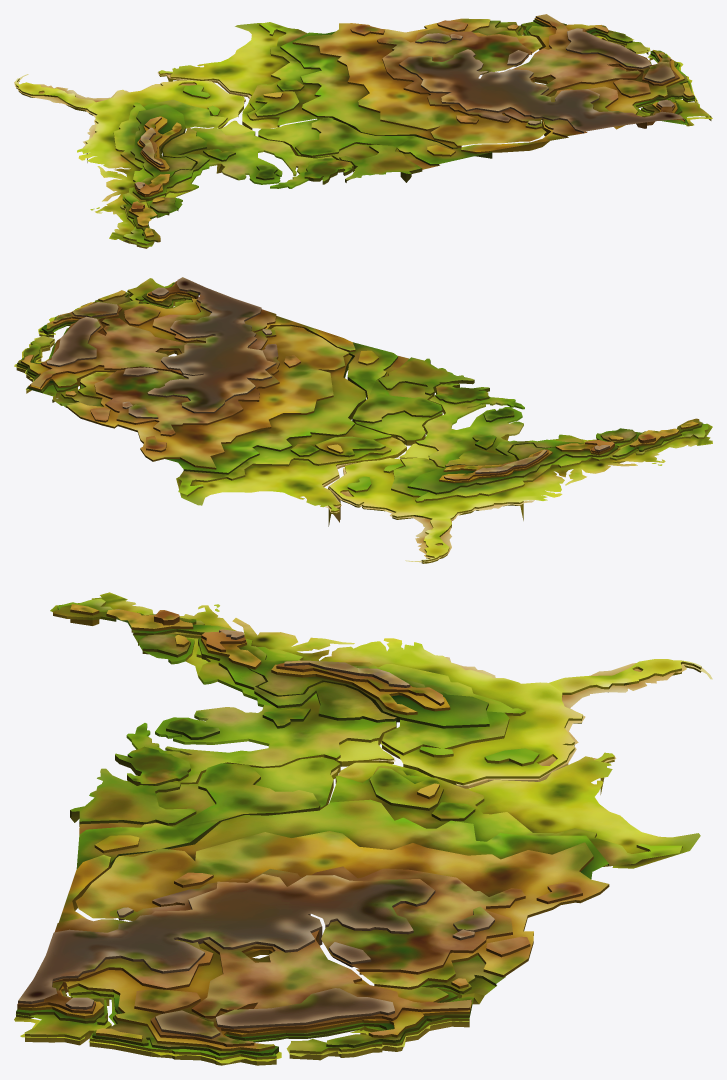
The model's file is ground_all.fbx.
3 views of the same model, one above another, from view 1: azimuth 30°, elevation 25°; view 2: azimuth 150°, elevation 25°; view 3: azimuth 270°, elevation 25° (orthographic). The views are drawn at different scales.
Parts seen in each view (by area): view 1: ground_C, ground_D, ground_B, ground_A, ground_E, ground_F; view 2: ground_C, ground_D, ground_B, ground_A, ground_E, ground_F; view 3: ground_C, ground_D, ground_B, ground_E, ground_A, ground_F.
Part boxes in pixels (x1,y1,x2,y2): ground_C: (123,20,694,242); ground_D: (128,18,693,237); ground_B: (113,21,711,248); ground_A: (14,23,712,246); ground_E: (131,14,684,212); ground_F: (135,28,683,190); ground_C: (17,282,702,494); ground_D: (21,283,699,483); ground_B: (16,278,708,502); ground_A: (14,282,712,563); ground_E: (30,281,655,480); ground_F: (46,277,609,473); ground_C: (16,605,608,1055); ground_D: (17,604,609,1051); ground_B: (16,598,682,1065); ground_E: (17,610,582,1046); ground_A: (14,592,712,1063); ground_F: (18,629,494,1038).
Size of the model in its own units: 190570 by 8868 by 119566.
